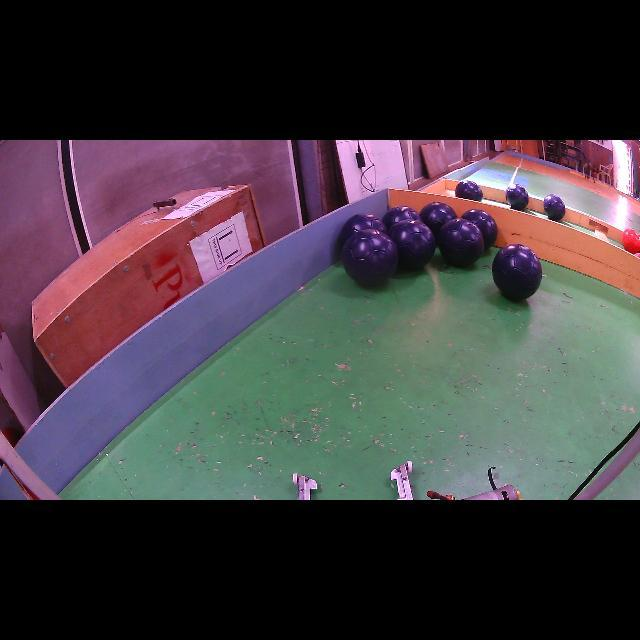B: (341, 229, 398, 286), (492, 244, 542, 300), (388, 219, 435, 270), (438, 219, 484, 266), (461, 209, 498, 248), (420, 202, 458, 238), (340, 214, 386, 243), (382, 206, 422, 230), (506, 184, 529, 210), (544, 194, 566, 221), (455, 180, 482, 201)
R: (622, 229, 640, 254)
